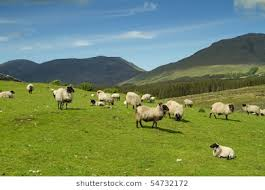sheep: (134, 103, 168, 129), (209, 99, 235, 123), (52, 84, 76, 109), (209, 140, 236, 160), (167, 98, 184, 122), (240, 101, 260, 119), (96, 89, 114, 105), (183, 97, 195, 111), (88, 97, 103, 108), (1, 88, 16, 99), (111, 91, 121, 101), (25, 83, 34, 94)
